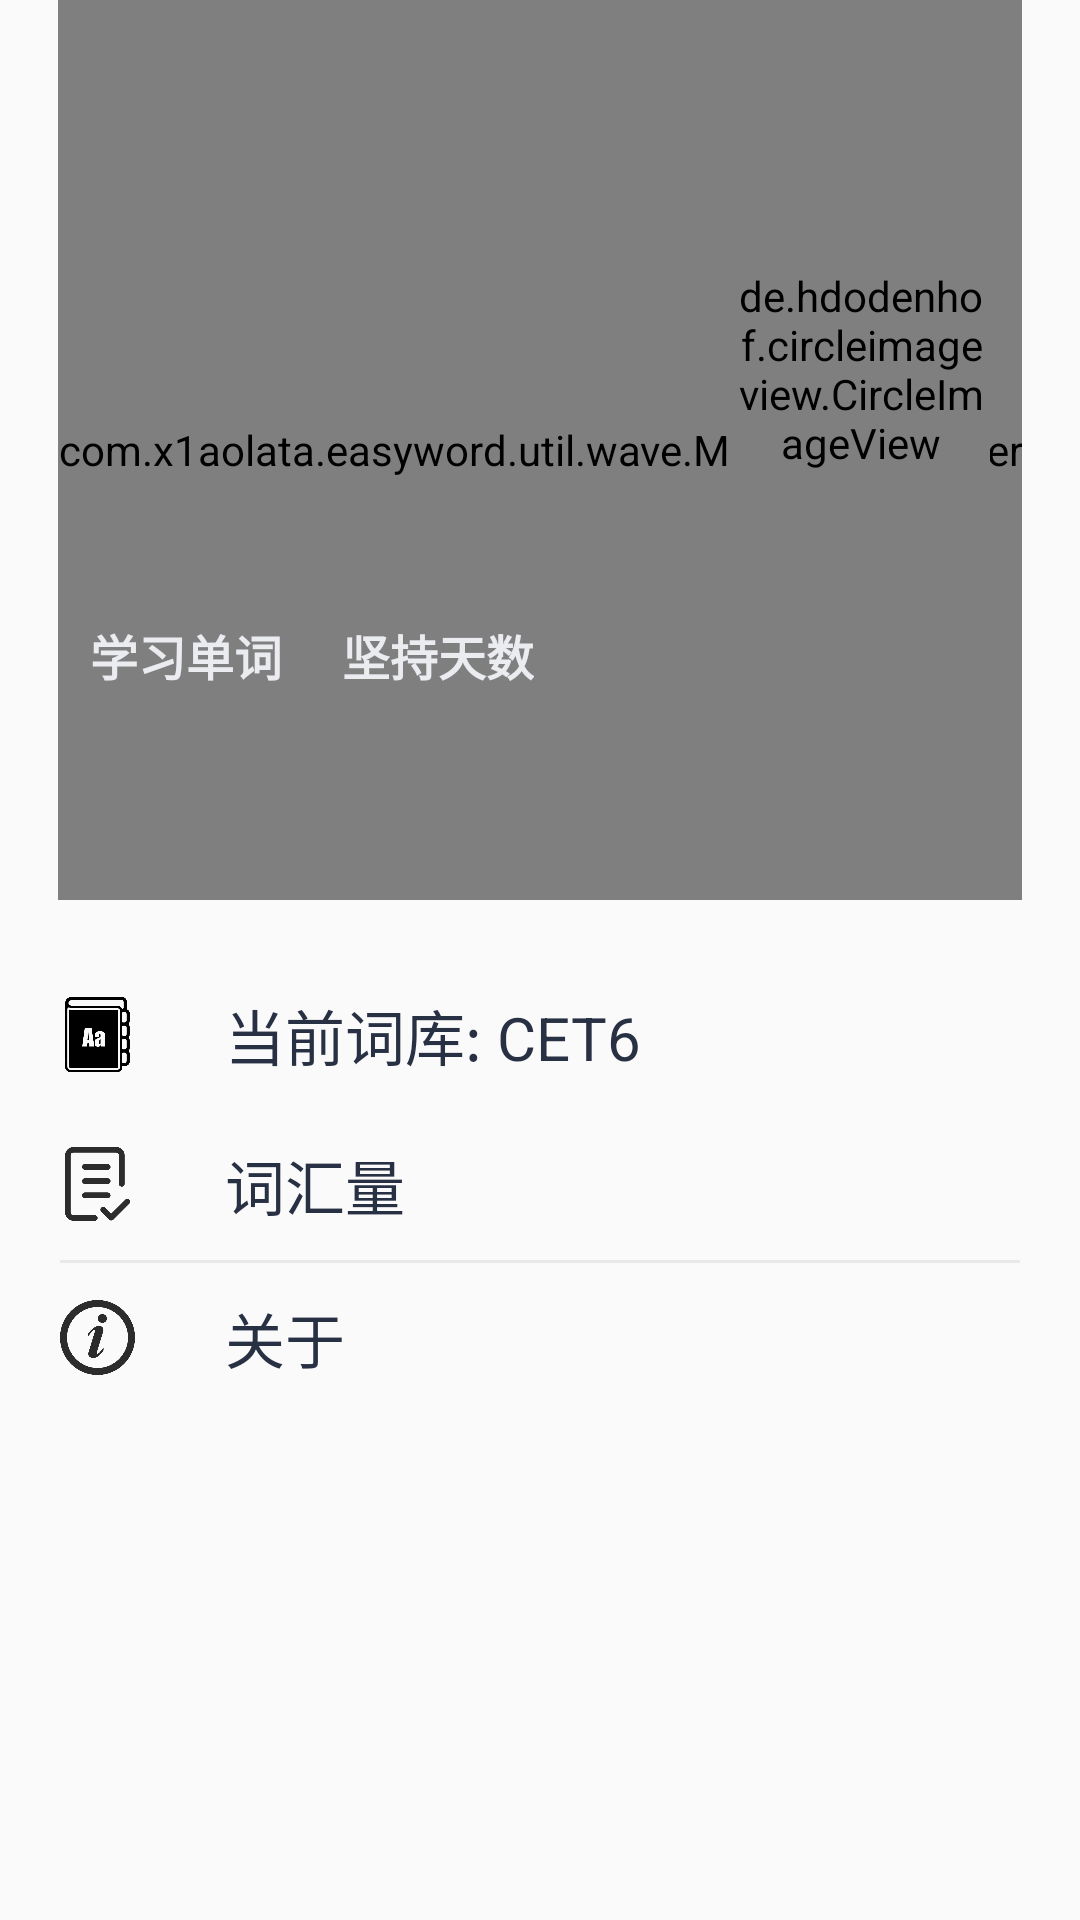

Named icons in this screenshot (1080 x 1920) and their bounding boxes, (x1, y1, x2, y2):
personal about: (60, 1300, 135, 1375)
personal dictionary: (65, 997, 130, 1072)
personal vocabulary: (65, 1147, 130, 1221)
